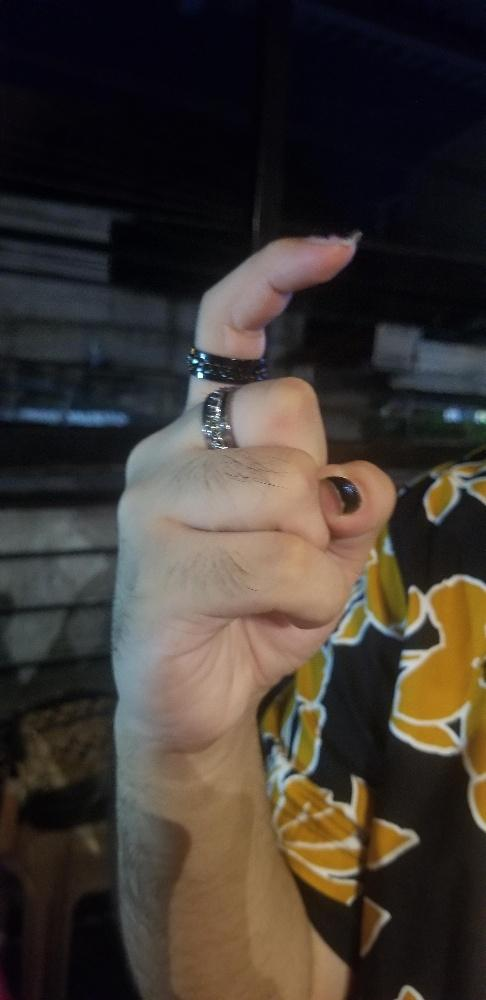x: (108, 234, 358, 738)
